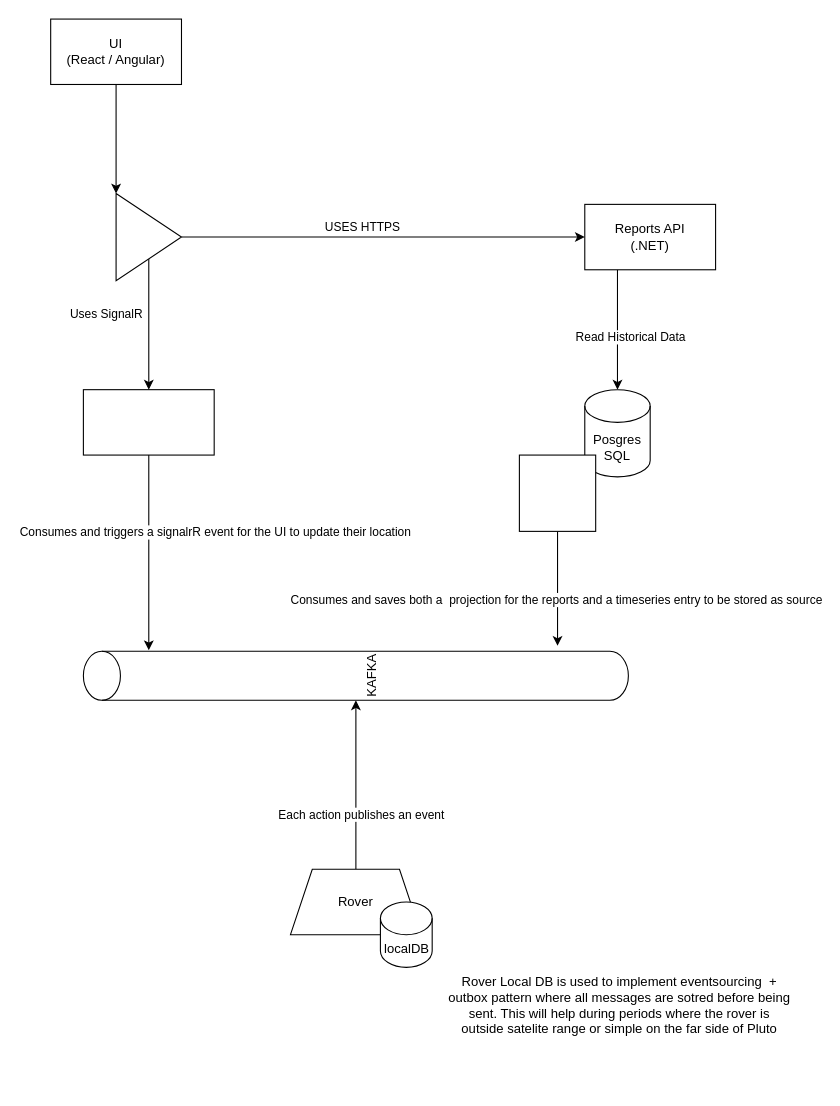
The diagram is 840 pixels wide and 1106 high, and some of its shapes have lost their labels. The centre of each missing label's shape, as x and y in pixels:
"API GW" goes at [148,236].
"LiveFeed API (NET)" goes at [148,422].
"Worker Service" goes at [557,492].
